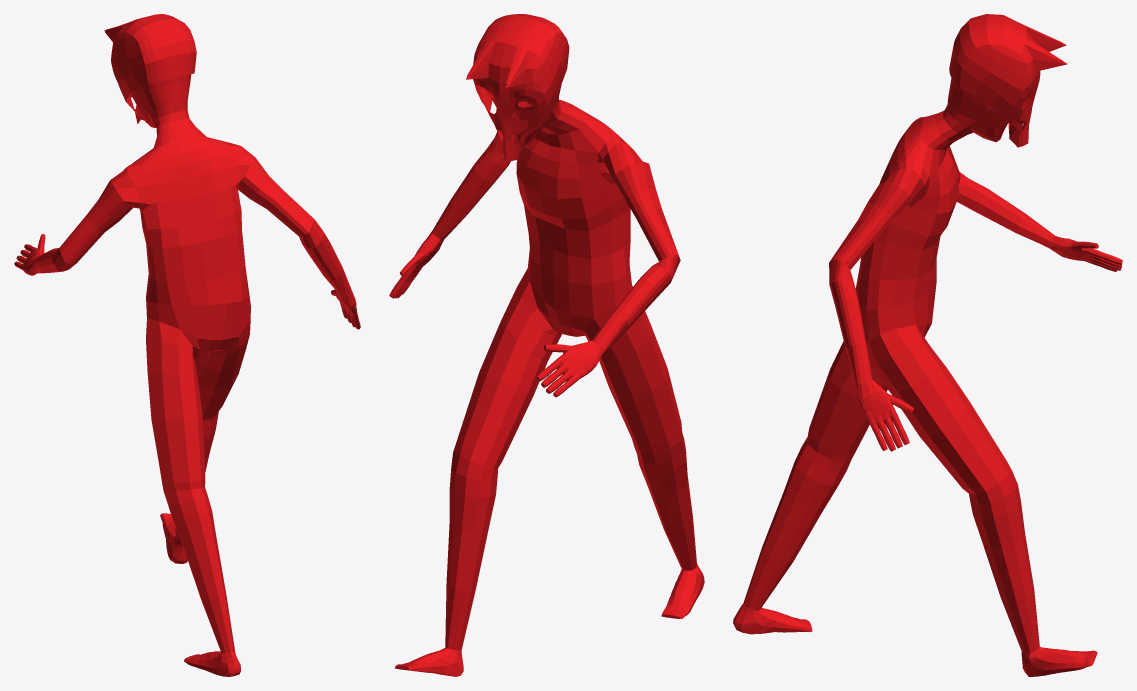
Rendered from marchaE_000051.obj.
3 renders of one model, left to right at view 1: azimuth 30°, elevation 25°; view 2: azimuth 150°, elevation 25°; view 3: azimuth 270°, elevation 25°, orthographic. The views are drawn at different scales.
Parts seen in each view (by area): view 1: Plane.002_Plane.001; view 2: Plane.002_Plane.001; view 3: Plane.002_Plane.001.
Part boxes in pixels (x1,y1,x2,y2): Plane.002_Plane.001: [14, 14, 360, 676]; Plane.002_Plane.001: [389, 14, 704, 676]; Plane.002_Plane.001: [733, 14, 1122, 676].
Size of the model in its own units: 3.29 by 6.57 by 3.67.
